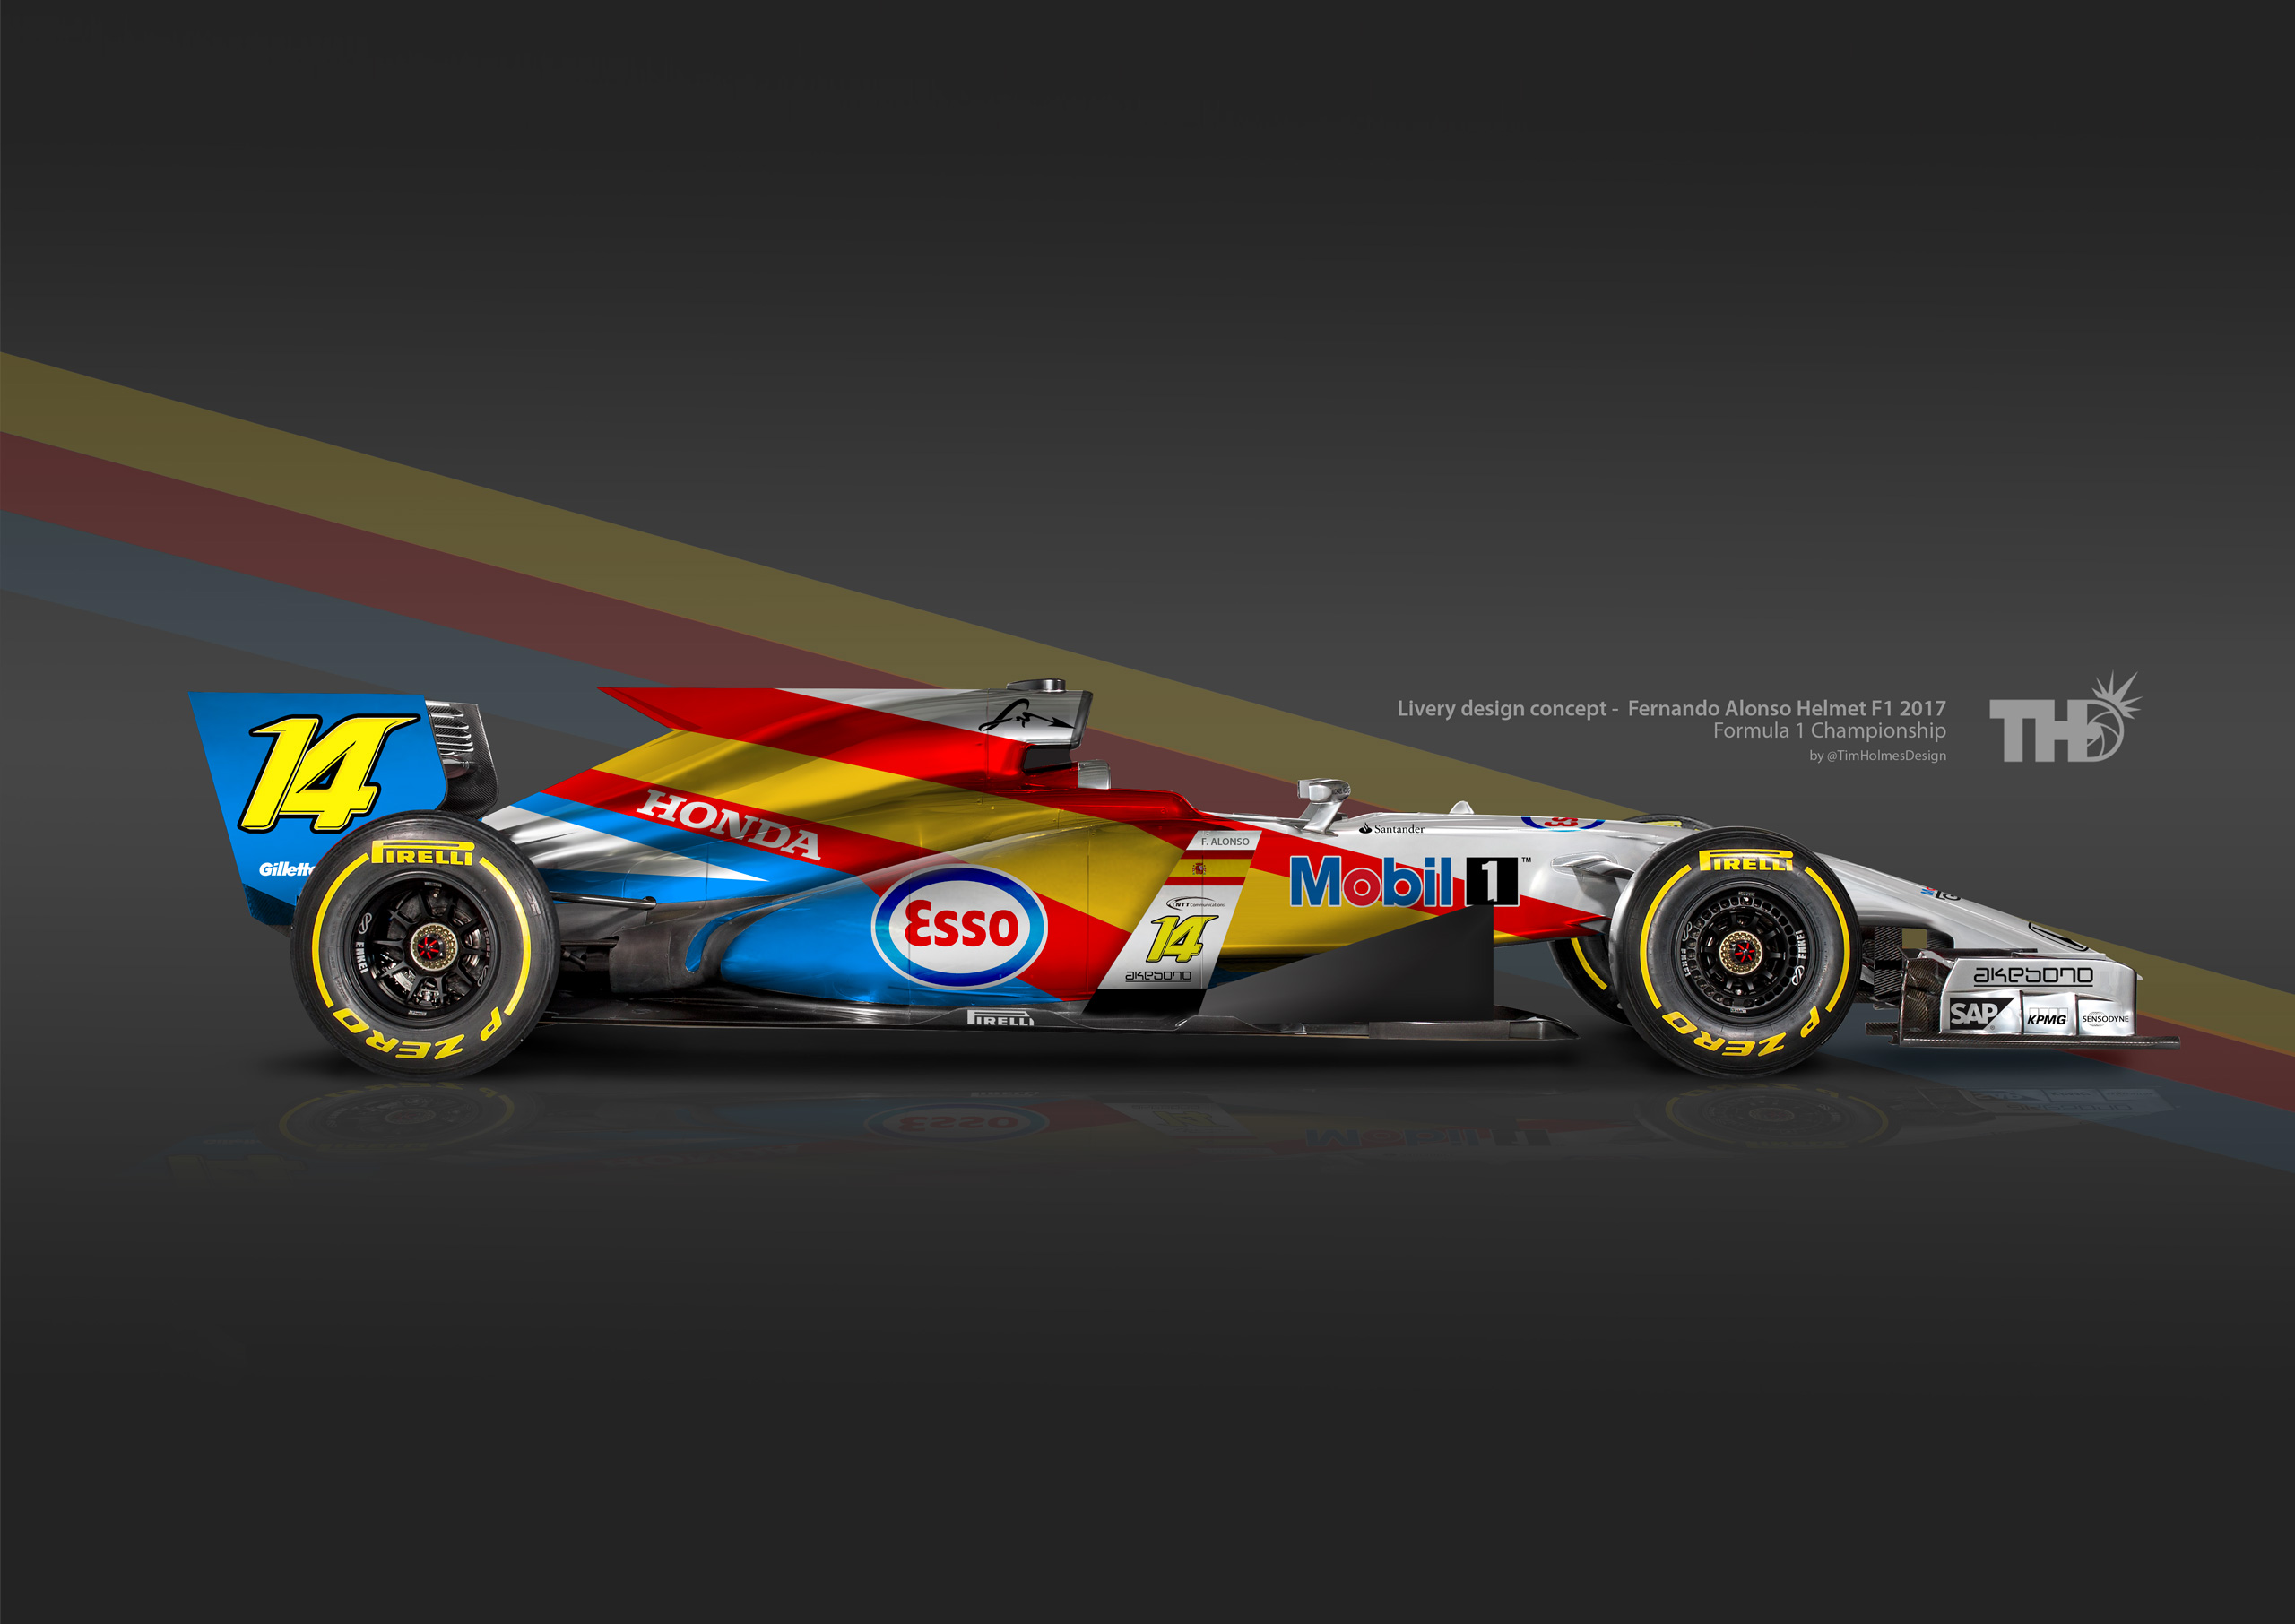f1_car: (135, 617, 2202, 1125)
